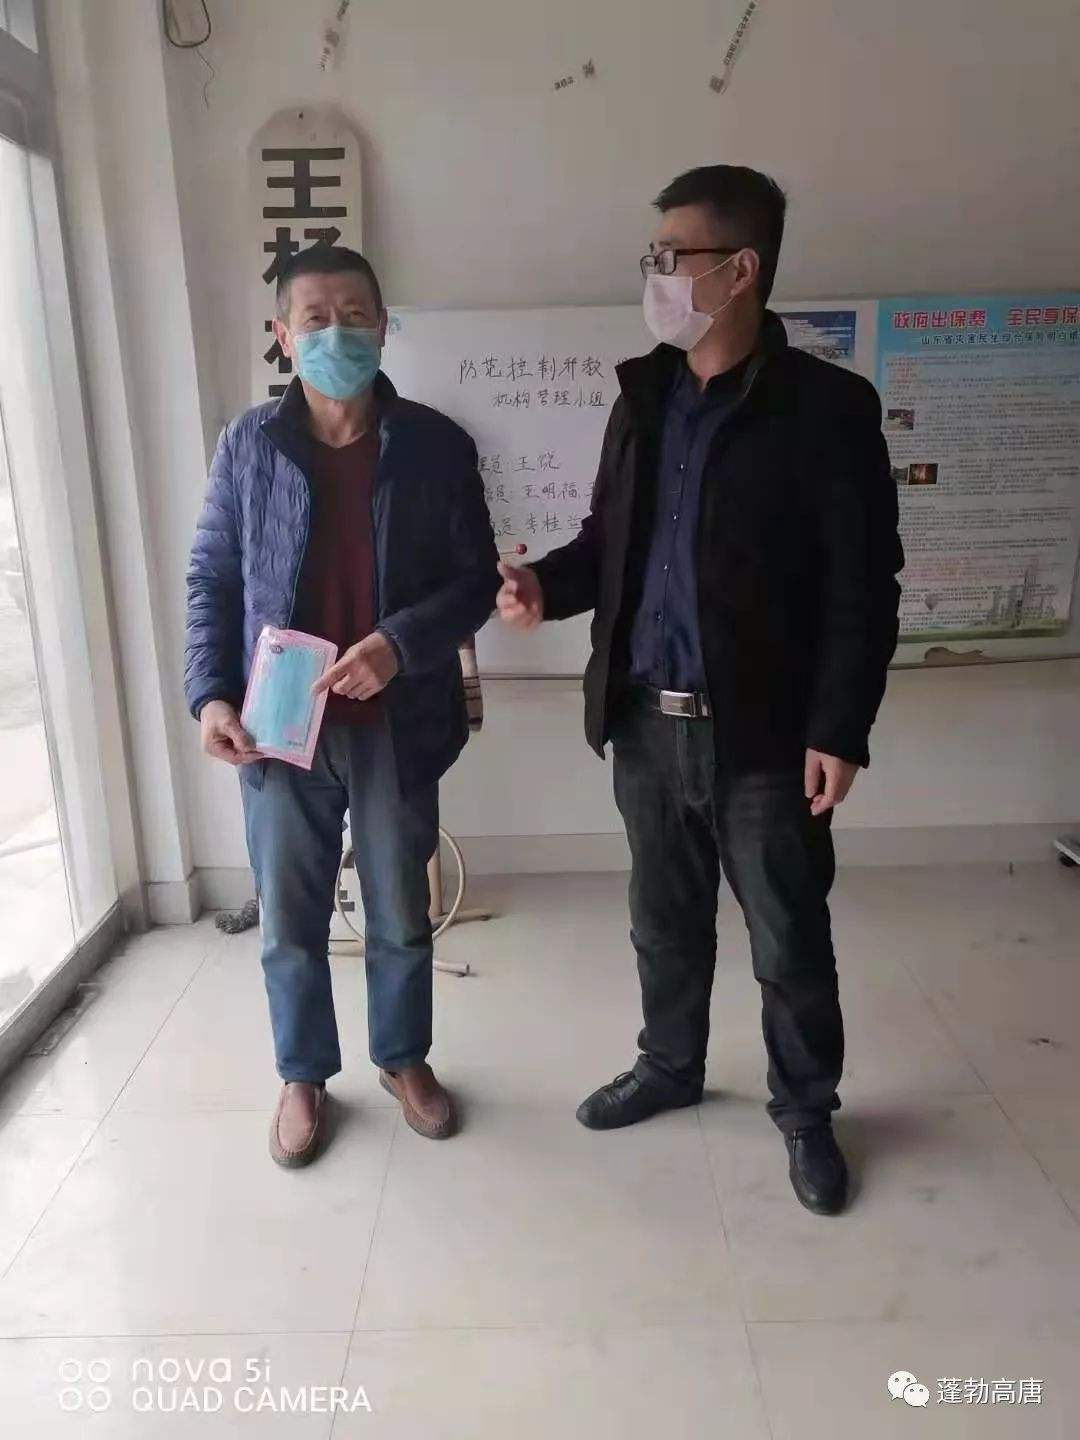Mask: (628, 195, 762, 351), (284, 271, 385, 408)
